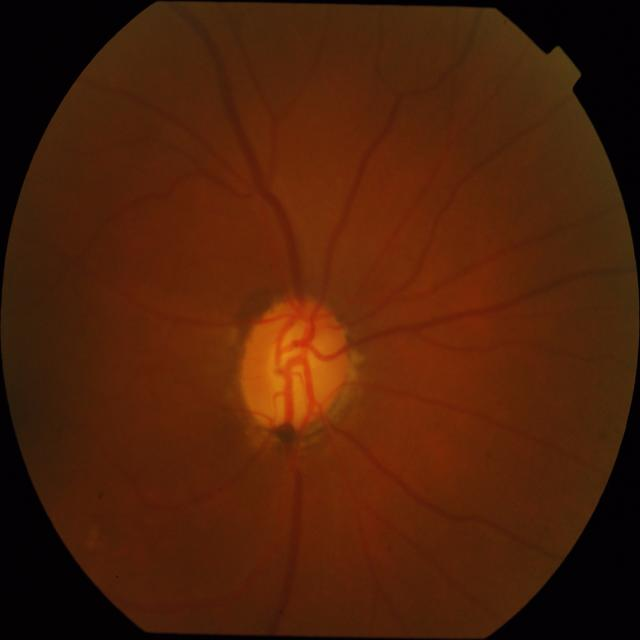OC: (260, 312, 341, 428)
OD: (239, 297, 352, 437)
